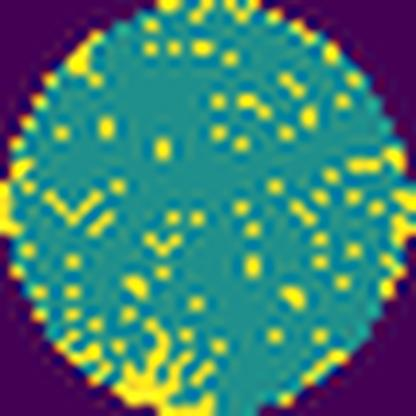Edge-Loc: (98, 316, 226, 416)
